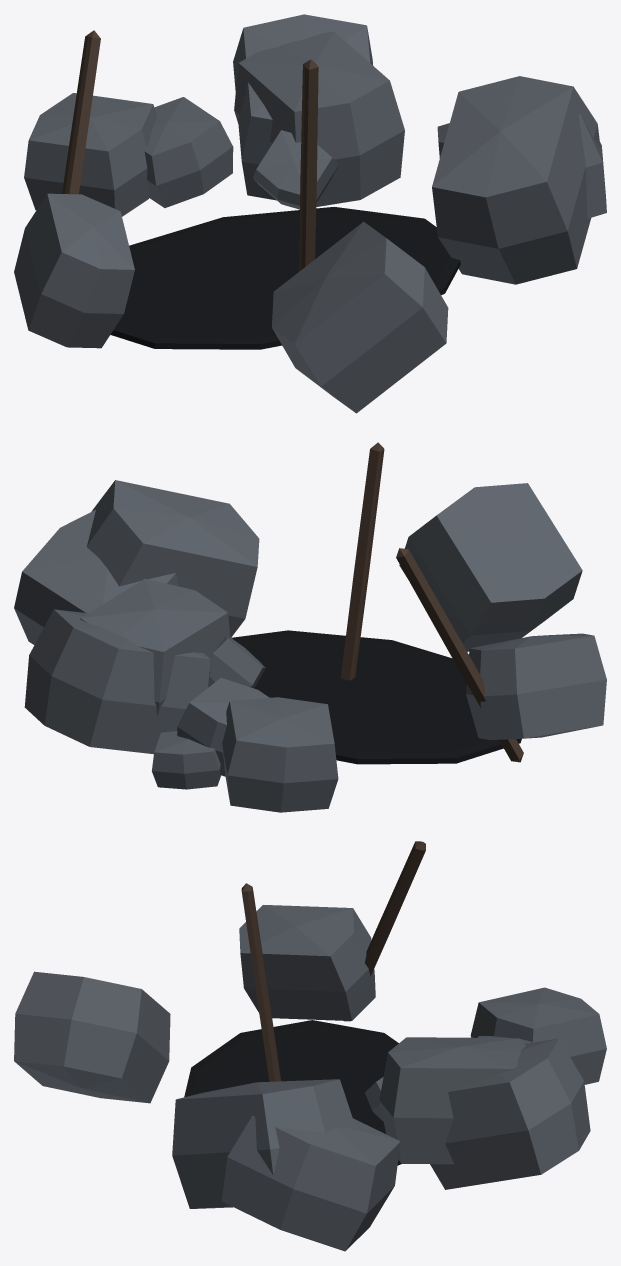
The model's file is s-pothole.glb.
3 views of the same model, one above another, from view 1: azimuth 30°, elevation 25°; view 2: azimuth 150°, elevation 25°; view 3: azimuth 270°, elevation 25° (orthographic). The views are drawn at different scales.
Visible parts, largest first — view 1: p; view 2: p; view 3: p.
Boxes of the visible parts, x1=… form: p: x1=14, y1=14, x2=606, y2=413; p: x1=14, y1=442, x2=606, y2=812; p: x1=14, y1=841, x2=606, y2=1251.
Bounding box in the file's own units: 2.05 × 0.909 × 1.99.
